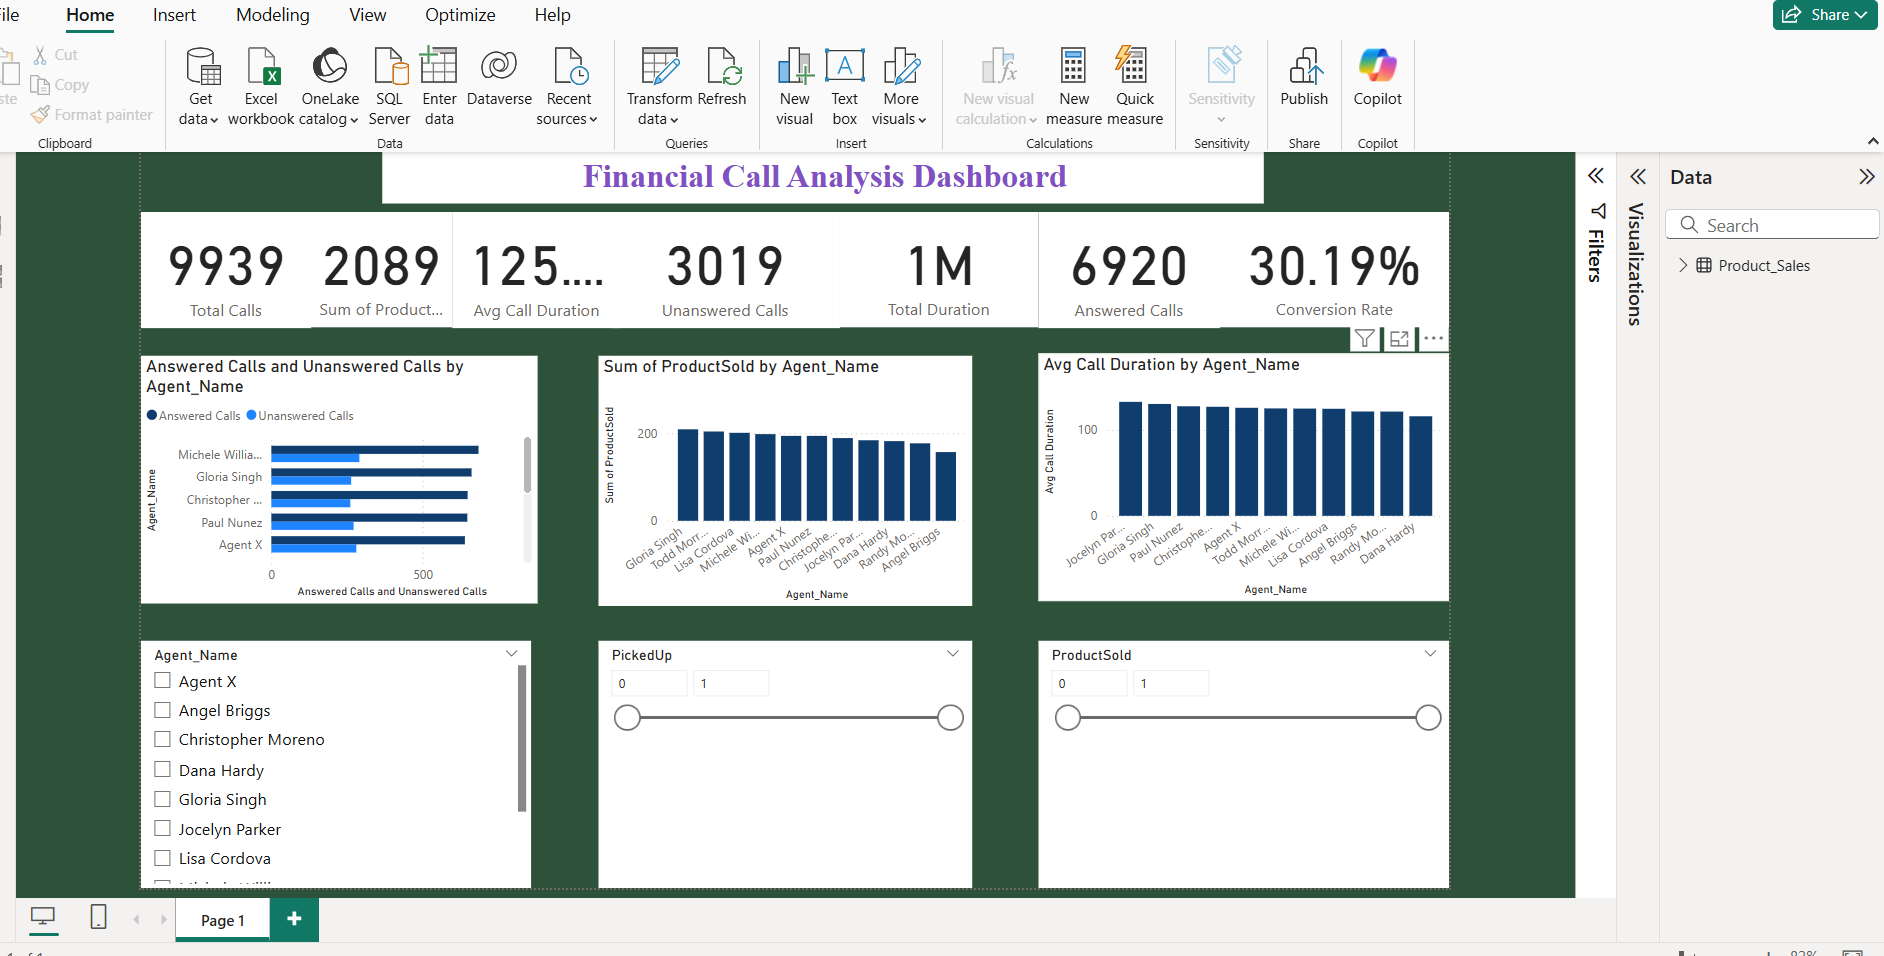

The page's visual inventory and layout, read from the dashboard file:
{"tool":"powerbi","page":{"name":"Page 1","canvas":[1280,720],"ordinal":0},"visuals":[{"type":"card","fields":{"Values":["Product_Sales.Total Calls"]},"box":[0,58.7,166.3,113.7],"z":0},{"type":"card","fields":{"Values":["Product_Sales.Answered Calls"]},"box":[878,58.7,177.3,113.7],"z":1000},{"type":"card","fields":{"Values":["Product_Sales.Unanswered Calls"]},"box":[459.8,58.7,223.8,113.7],"z":2000},{"type":"card","fields":{"Values":["Product_Sales.ProductSold"]},"box":[166.3,58.7,138.2,112.5],"z":3000},{"type":"card","fields":{"Values":["Product_Sales.Total Duration"]},"box":[683.6,58.7,194.4,112.5],"z":4000},{"type":"card","fields":{"Values":["Product_Sales.Avg Call Duration"]},"box":[304.5,58.7,165.1,113.7],"z":5000},{"type":"card","fields":{"Values":["Product_Sales.Conversion Rate"]},"box":[1055.3,58.7,225,112.5],"z":6000},{"type":"clusteredBarChart","fields":{"Category":["Product_Sales.Agent_Name"],"Y":["Product_Sales.Answered Calls","Product_Sales.Unanswered Calls"]},"box":[0,199.3,387.6,242.1],"z":7000},{"type":"columnChart","fields":{"Category":["Product_Sales.Agent_Name"],"Y":["Product_Sales.ProductSold"]},"box":[447.6,199.3,365.6,244.6],"z":8000},{"type":"clusteredColumnChart","fields":{"Category":["Product_Sales.Agent_Name"],"Y":["Product_Sales.Avg Call Duration"]},"box":[878,196.9,402.3,242.1],"z":9000},{"type":"slicer","fields":{"Values":["Product_Sales.Agent_Name"]},"box":[0,477.5,381.5,242.9],"z":9001},{"type":"slicer","fields":{"Values":["Product_Sales.PickedUp"]},"box":[447.6,478.1,365.6,242.1],"z":9002},{"type":"slicer","fields":{"Values":["Product_Sales.ProductSold"]},"box":[878,478.1,402.3,242.1],"z":9003},{"type":"textbox","box":[236,0,862.1,50.1],"z":9005}]}

Visuals, with their boxes on the page's 1280x720 design canvas (x1, y1, x2, y2). These are canvas units, not pixel positions in the 1884x956 screenshot, which may show the page scaled, cropped or inside an application window:
card - Product_Sales.Total Calls: box=[0, 59, 166, 172]
card - Product_Sales.Answered Calls: box=[878, 59, 1055, 172]
card - Product_Sales.Unanswered Calls: box=[460, 59, 684, 172]
card - Product_Sales.ProductSold: box=[166, 59, 304, 171]
card - Product_Sales.Total Duration: box=[684, 59, 878, 171]
card - Product_Sales.Avg Call Duration: box=[304, 59, 470, 172]
card - Product_Sales.Conversion Rate: box=[1055, 59, 1280, 171]
clusteredBarChart - Product_Sales.Agent_Name x Product_Sales.Answered Calls: box=[0, 199, 388, 441]
columnChart - Product_Sales.Agent_Name x Product_Sales.ProductSold: box=[448, 199, 813, 444]
clusteredColumnChart - Product_Sales.Agent_Name x Product_Sales.Avg Call Duration: box=[878, 197, 1280, 439]
slicer - Product_Sales.Agent_Name: box=[0, 478, 382, 720]
slicer - Product_Sales.PickedUp: box=[448, 478, 813, 720]
slicer - Product_Sales.ProductSold: box=[878, 478, 1280, 720]
textbox: box=[236, 0, 1098, 50]
